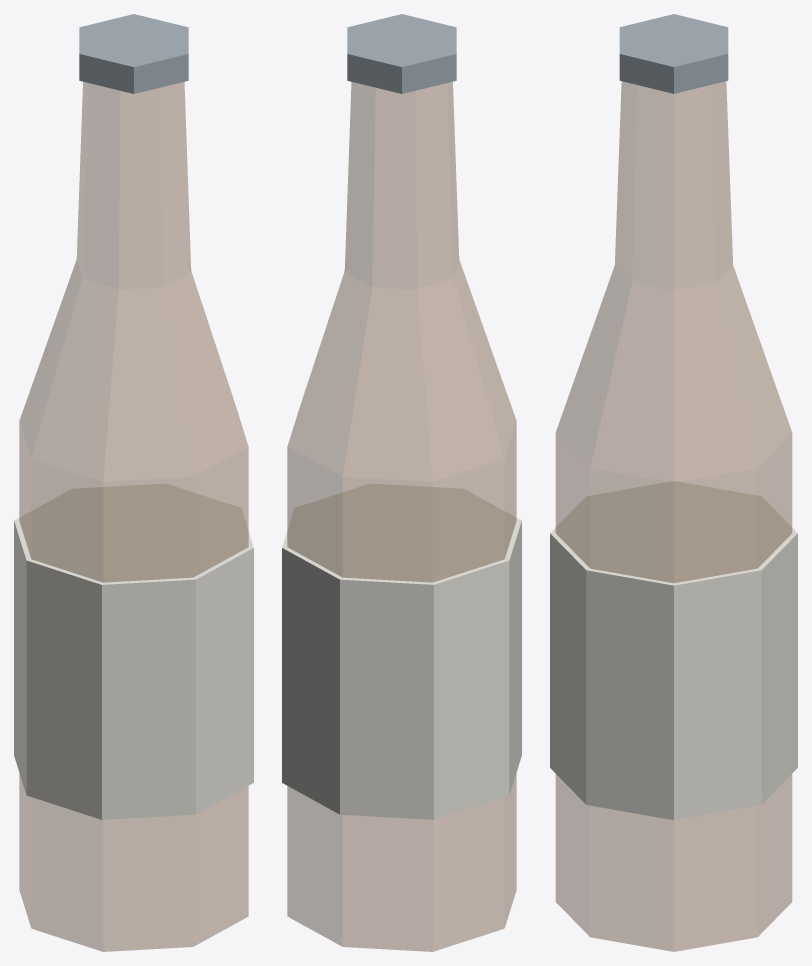
File: FD_BeerBottle_01.glb
The picture shows the model from 3 angles, left to right: view 1: azimuth 30°, elevation 25°; view 2: azimuth 150°, elevation 25°; view 3: azimuth 270°, elevation 25°; orthographic projection.
Visible parts, largest first — view 1: FD_BeerBottle_01; view 2: FD_BeerBottle_01; view 3: FD_BeerBottle_01.
Part boxes in pixels (box(x1,y1,x2,y2)): FD_BeerBottle_01: box(14, 14, 253, 951); FD_BeerBottle_01: box(282, 14, 521, 951); FD_BeerBottle_01: box(550, 14, 797, 951).
Bounding box in the file's own units: 0.067 × 0.257 × 0.067.
Materials: 2 (2 with a texture image).
